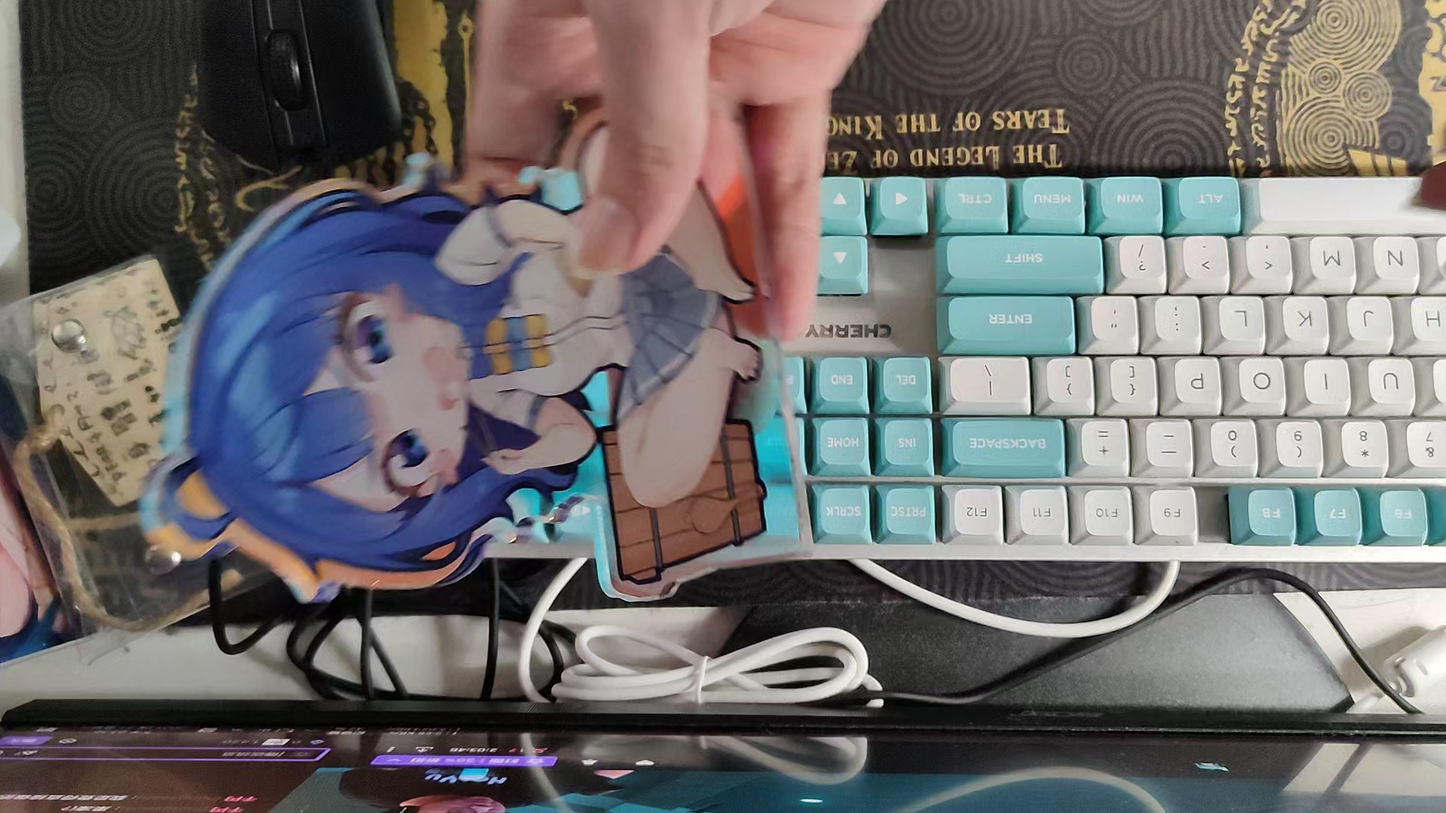Yanami-anna: (141, 69, 814, 628)
